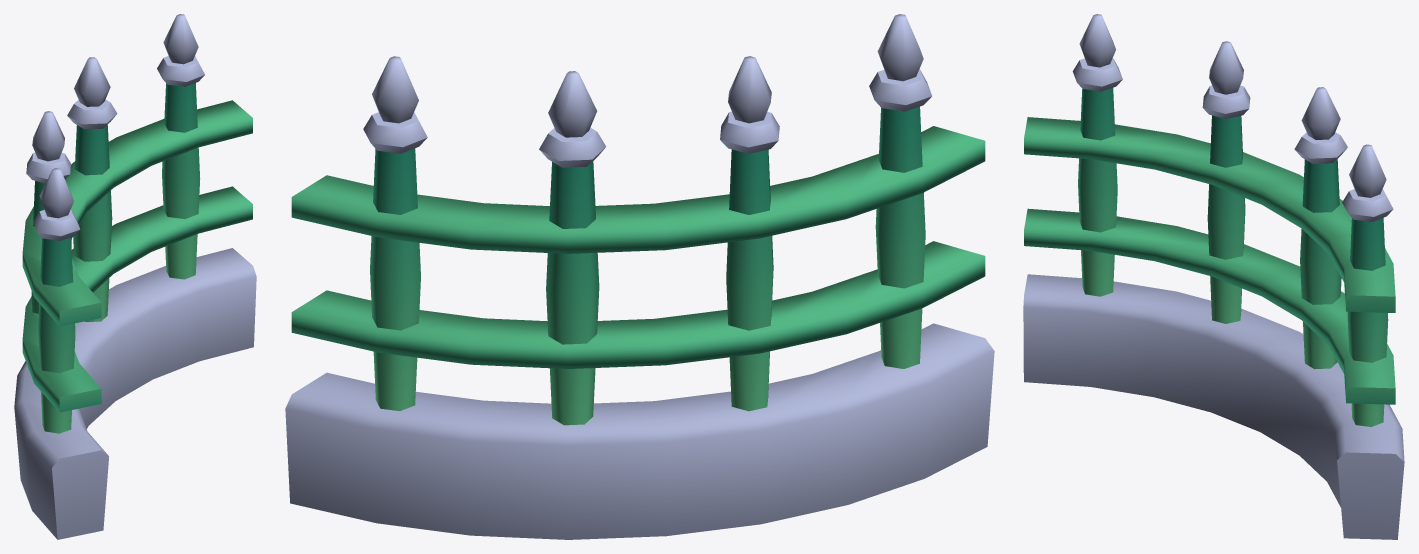
Rendered from iron-fence-border-curve.006_lev2.glb.
The picture shows the model from 3 angles, left to right: view 1: azimuth 30°, elevation 25°; view 2: azimuth 150°, elevation 25°; view 3: azimuth 270°, elevation 25°; orthographic projection. The views are drawn at different scales.
Visible parts, largest first — view 1: iron-fence-border-curve.006_lev2; view 2: iron-fence-border-curve.006_lev2; view 3: iron-fence-border-curve.006_lev2.
Part boxes in pixels (bbox=[...]): iron-fence-border-curve.006_lev2: bbox=[14, 14, 256, 539]; iron-fence-border-curve.006_lev2: bbox=[285, 14, 994, 539]; iron-fence-border-curve.006_lev2: bbox=[1023, 14, 1404, 539].
Size of the model in its own units: 7.7 by 7.03 by 6.75.
Materials: 1 (1 with a texture image).
